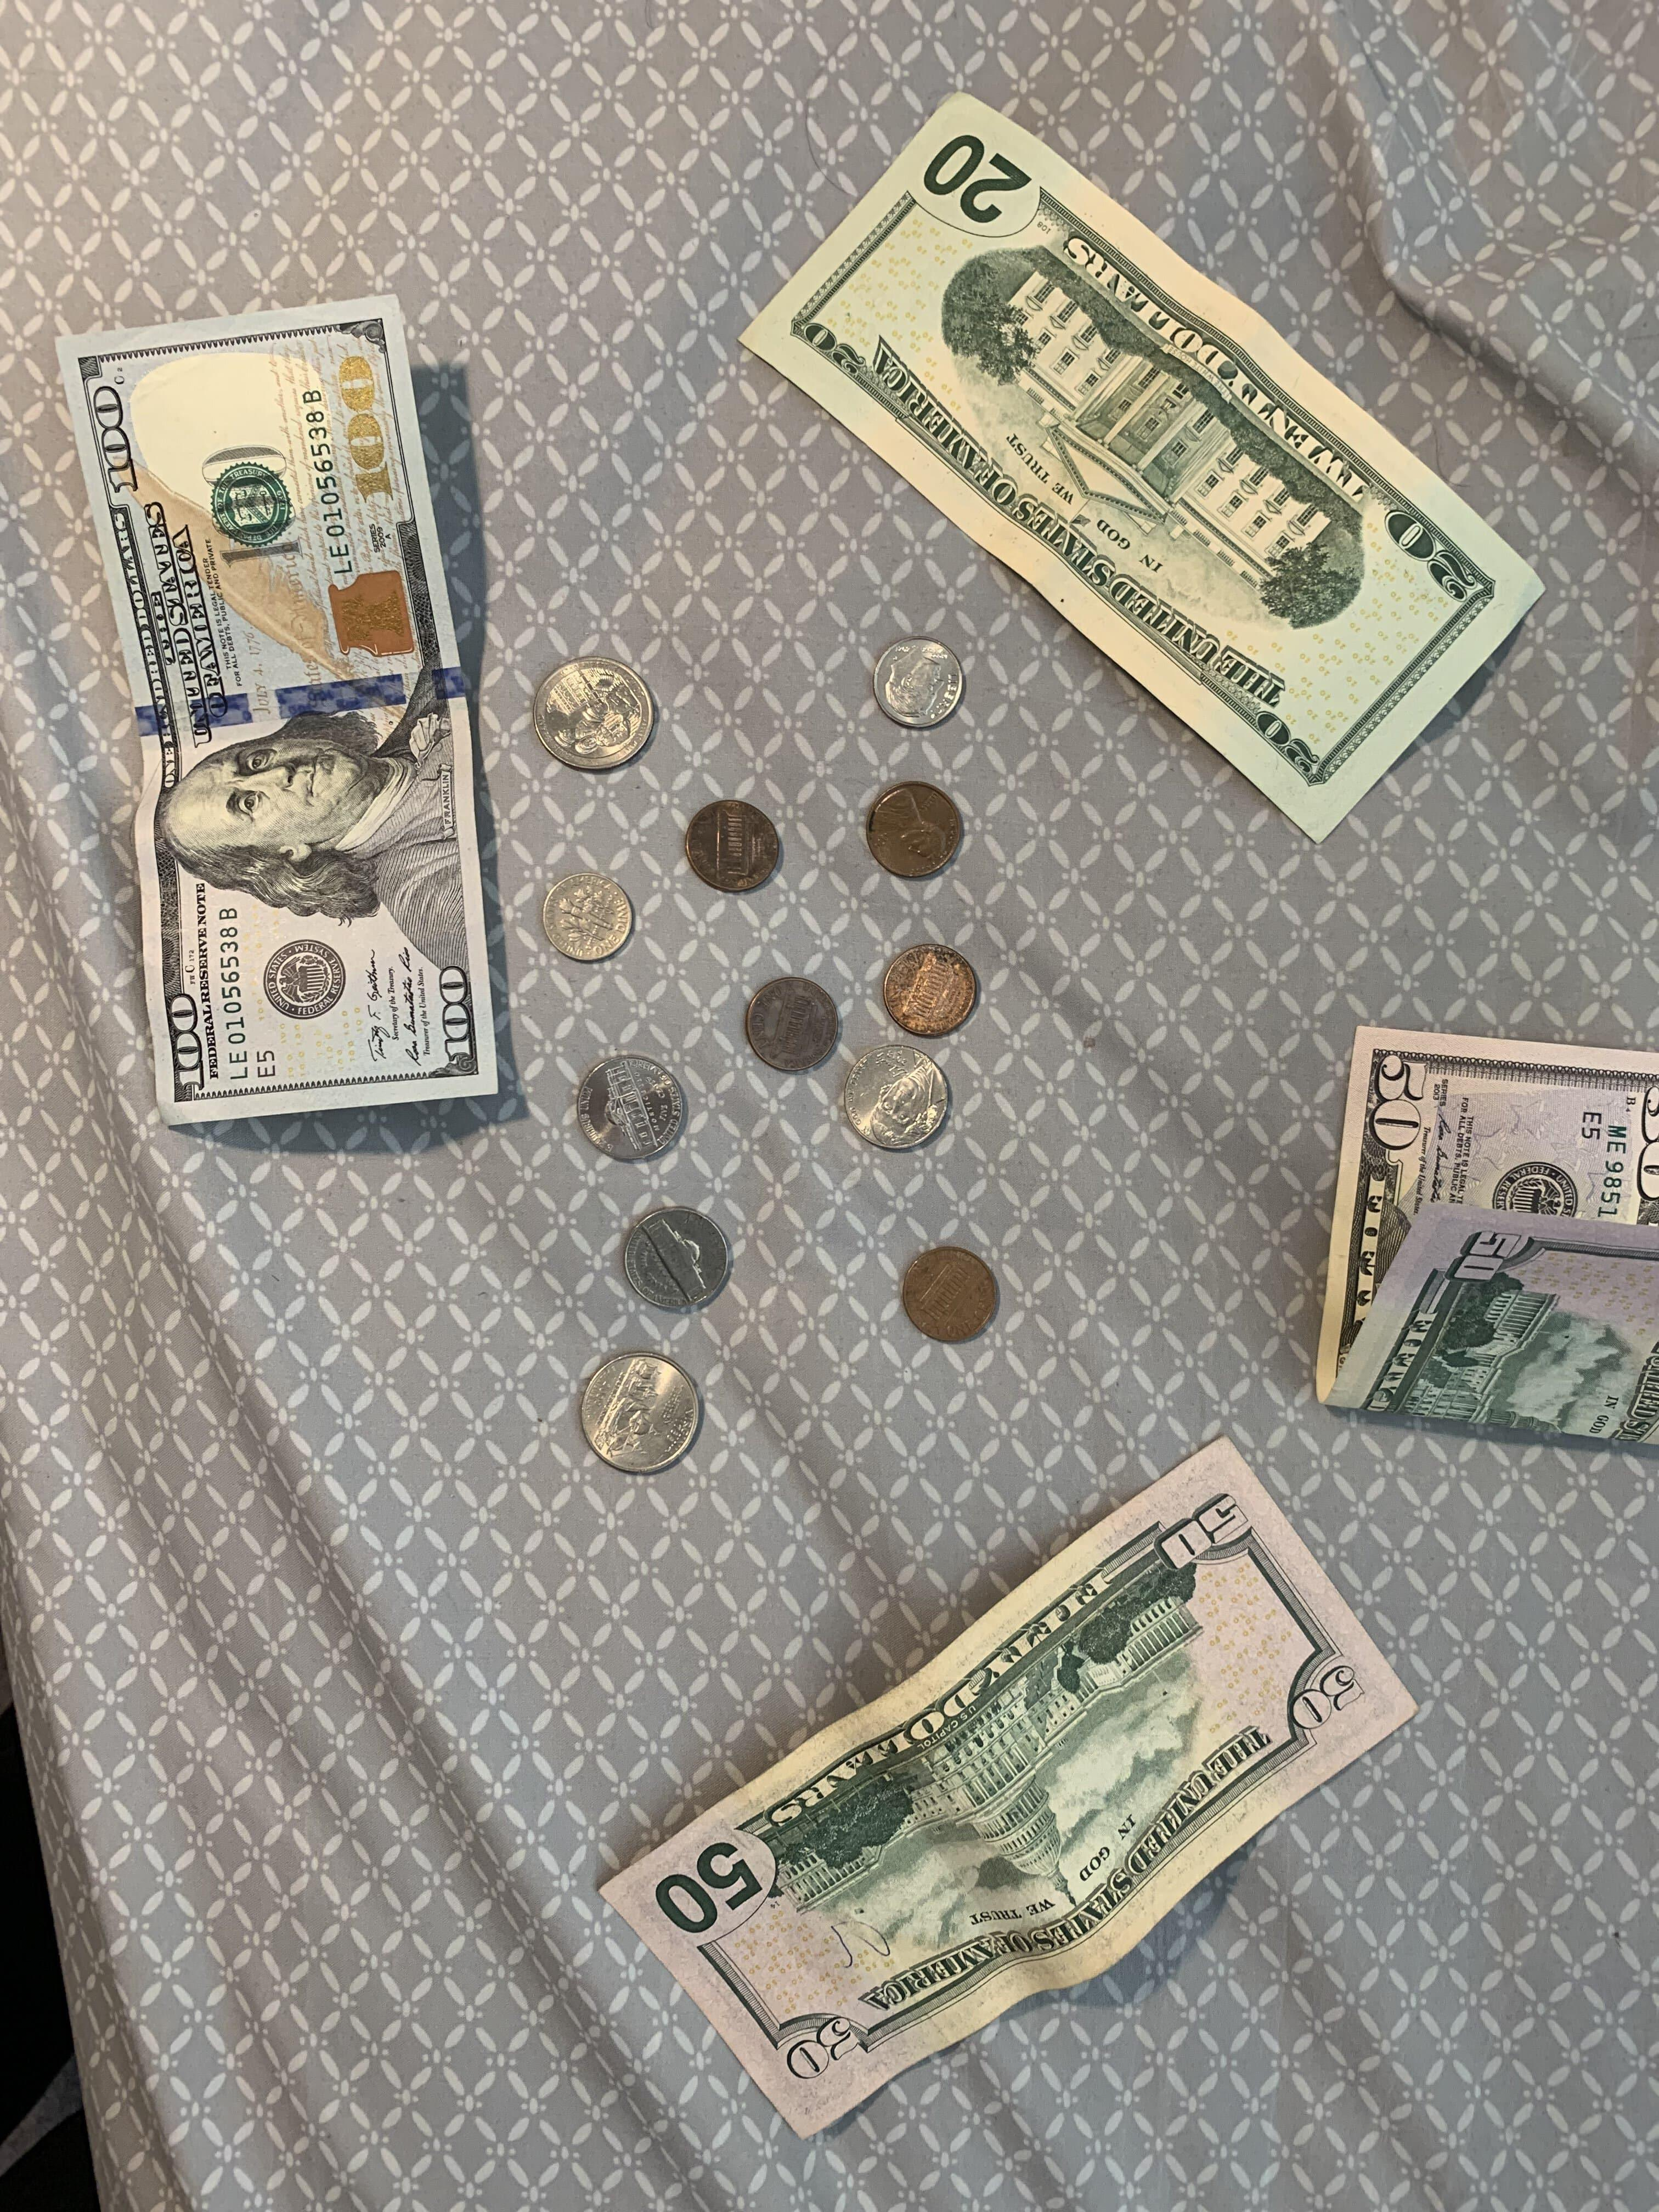Dime: (525, 867, 653, 974), (859, 627, 976, 737)
FiftyBill: (559, 1430, 1439, 2156), (1291, 1012, 1657, 1470)
HundredBill: (9, 273, 526, 1219)
Nickel: (824, 1040, 971, 1167), (558, 1045, 708, 1167), (610, 1198, 751, 1322)
Penny: (838, 768, 993, 894), (716, 958, 850, 1080), (666, 787, 791, 904), (889, 1238, 1014, 1353), (877, 941, 988, 1047)
Quarter: (558, 1339, 714, 1489), (526, 643, 669, 782)
TwentyBill: (725, 78, 1568, 859)
